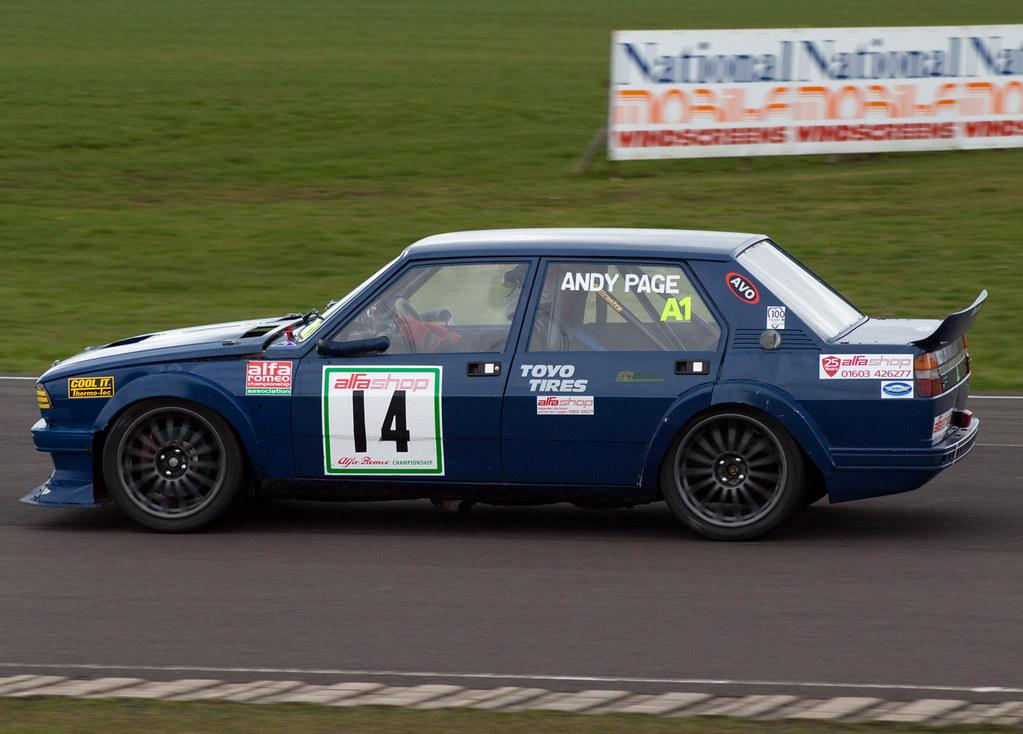car: (20, 227, 989, 542)
